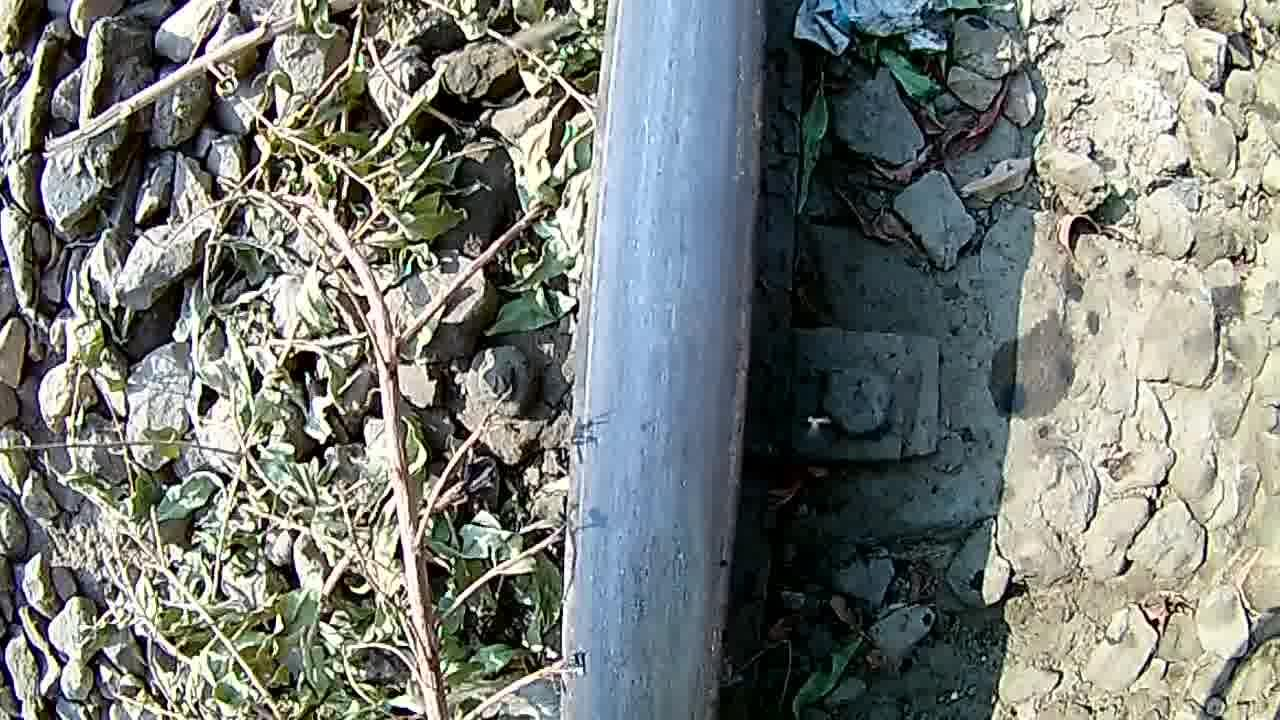bolt_missing: (592, 336, 753, 720)
